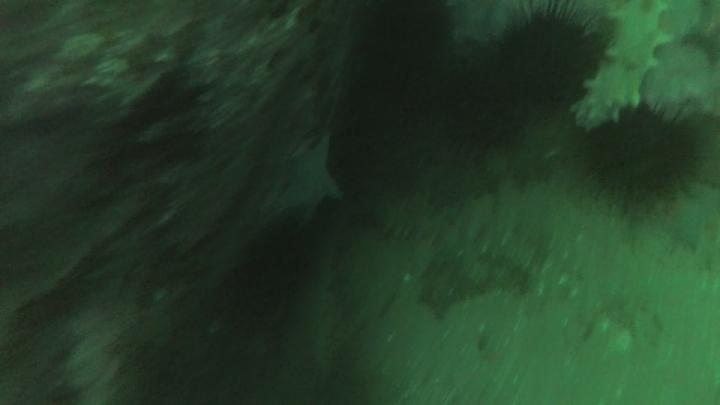echinus: (587, 111, 690, 208), (515, 14, 598, 102)
holothurian: (575, 2, 665, 130)
